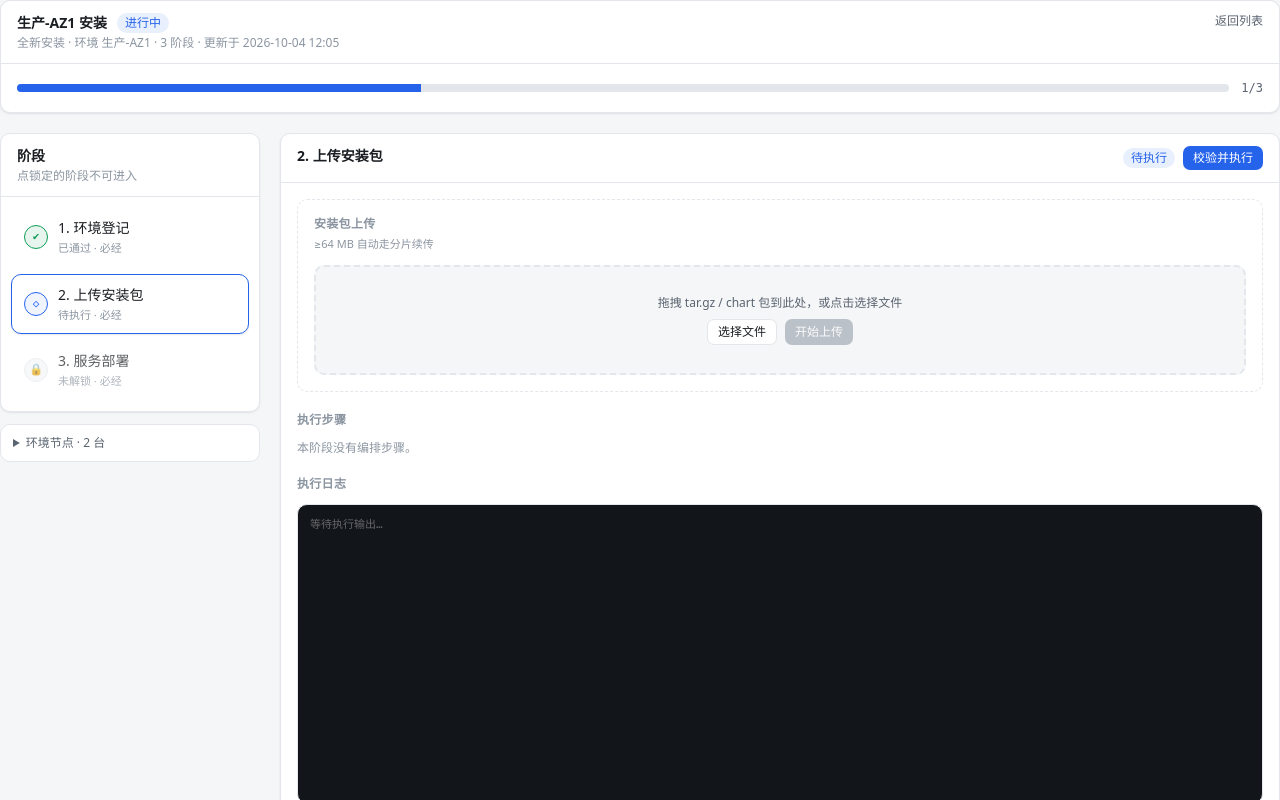
FlowWizard 上传区插槽 › 上传区只挂在 package_upload 阶段，切到别的阶段就收回
Check: the text "生产-AZ1 安装" is shown, box x1=17 y1=13 x2=107 y2=32
Check: the heading "安装包上传" is shown, box x1=314 y1=215 x2=376 y2=232
Click the button "✔ 1. 环境登记 已通过 · 必经".
click(130, 237)  # box x1=11 y1=207 x2=249 y2=268
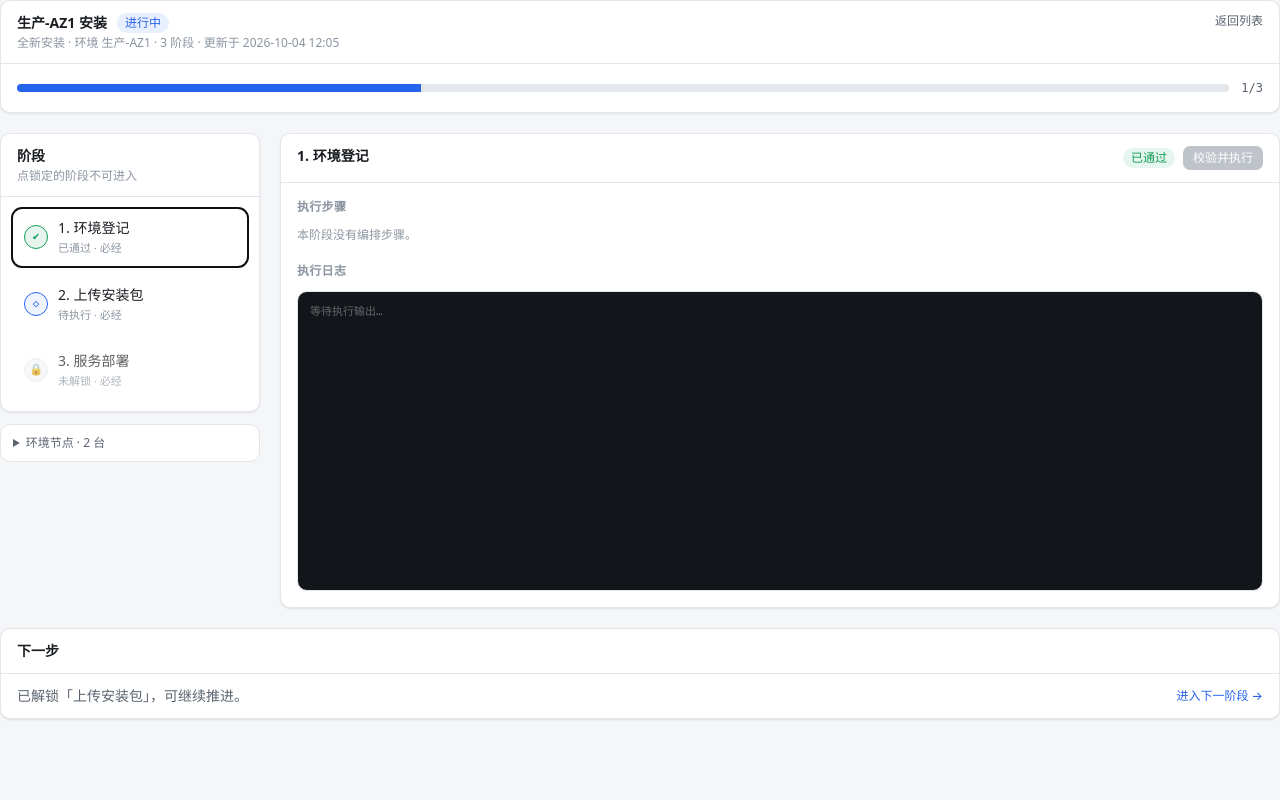
Check: the heading "1. 环境登记" is shown, box x1=297 y1=146 x2=369 y2=166
Check: the heading "安装包上传" is gone
Check: the text "选择文件" is gone
